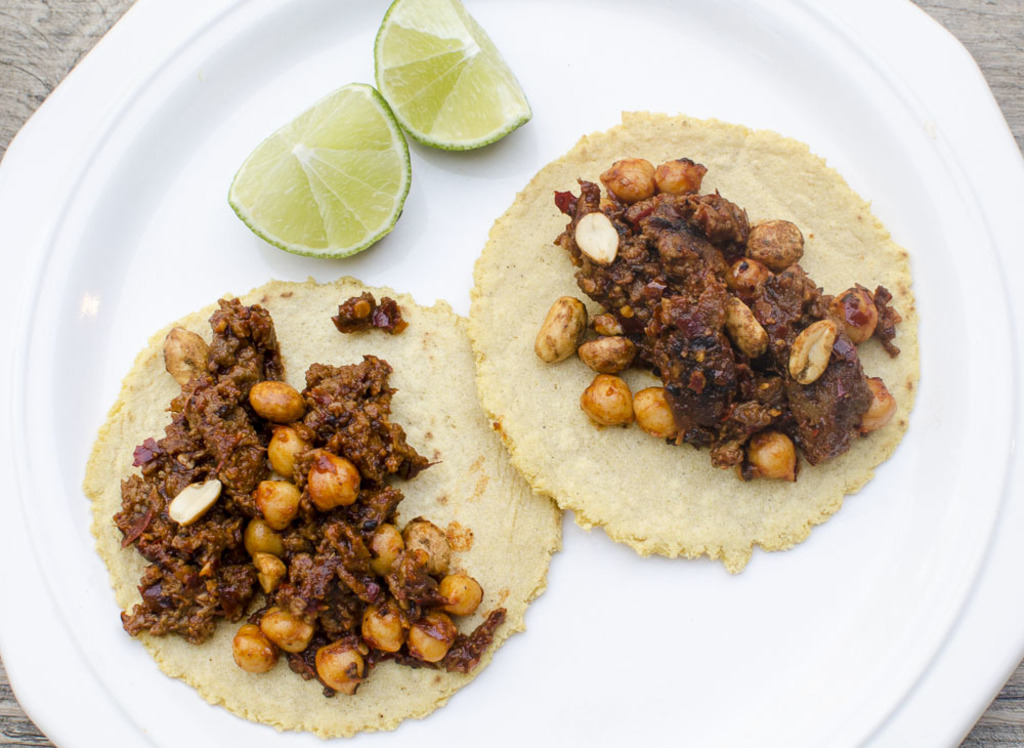taco: (80, 277, 559, 742), (510, 97, 901, 594)
